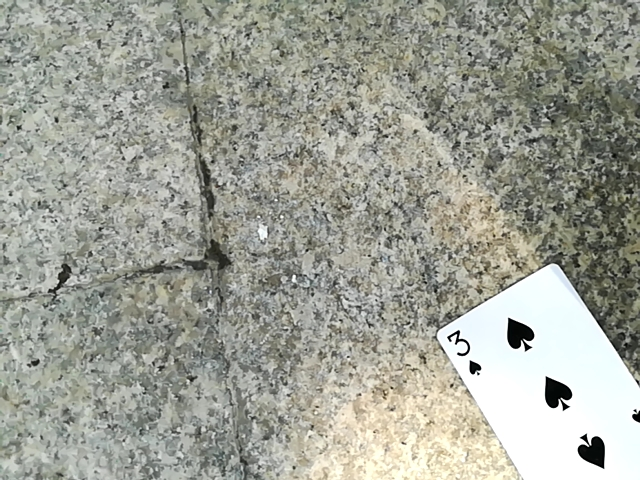ht 3: (437, 263, 636, 480)
